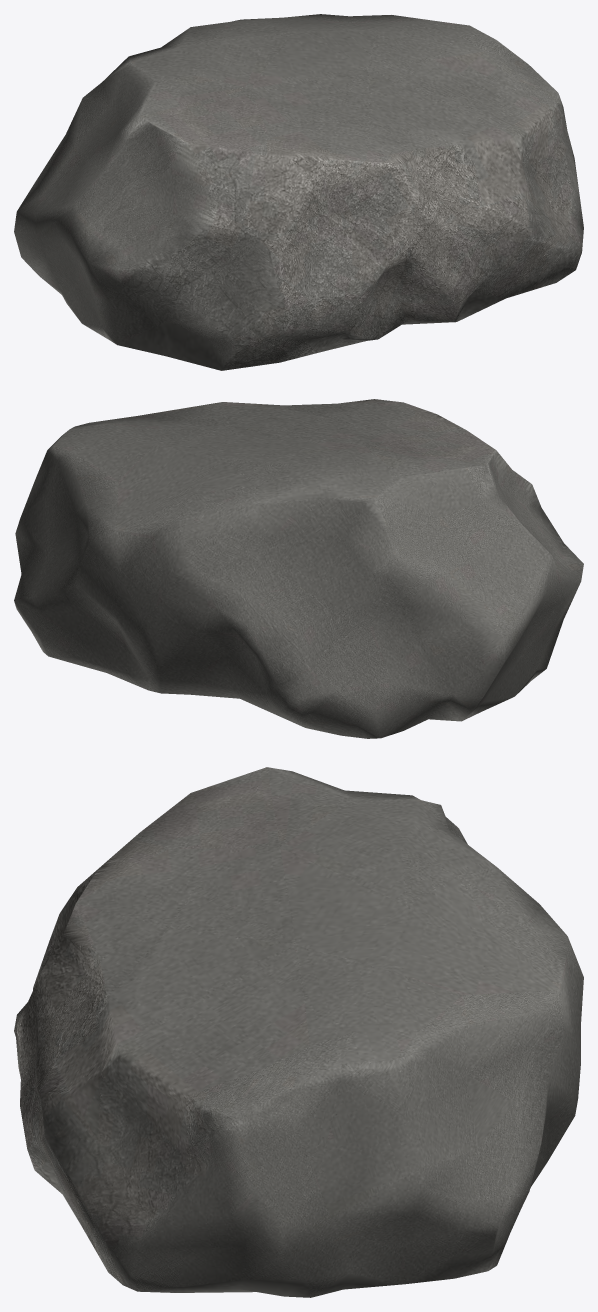
3 views of the same model, one above another, from view 1: azimuth 30°, elevation 25°; view 2: azimuth 150°, elevation 25°; view 3: azimuth 270°, elevation 25° (orthographic). The views are drawn at different scales.
Parts seen in each view (by area): view 1: mesh_node; view 2: mesh_node; view 3: mesh_node.
Boxes of the visible parts, box(x1,y1,x2,y2) form: mesh_node: box(14, 14, 583, 370); mesh_node: box(14, 399, 583, 738); mesh_node: box(14, 767, 583, 1297).
Bounding box in the file's own units: 2 × 0.8379 × 1.51.
1 material, 1 textured.
